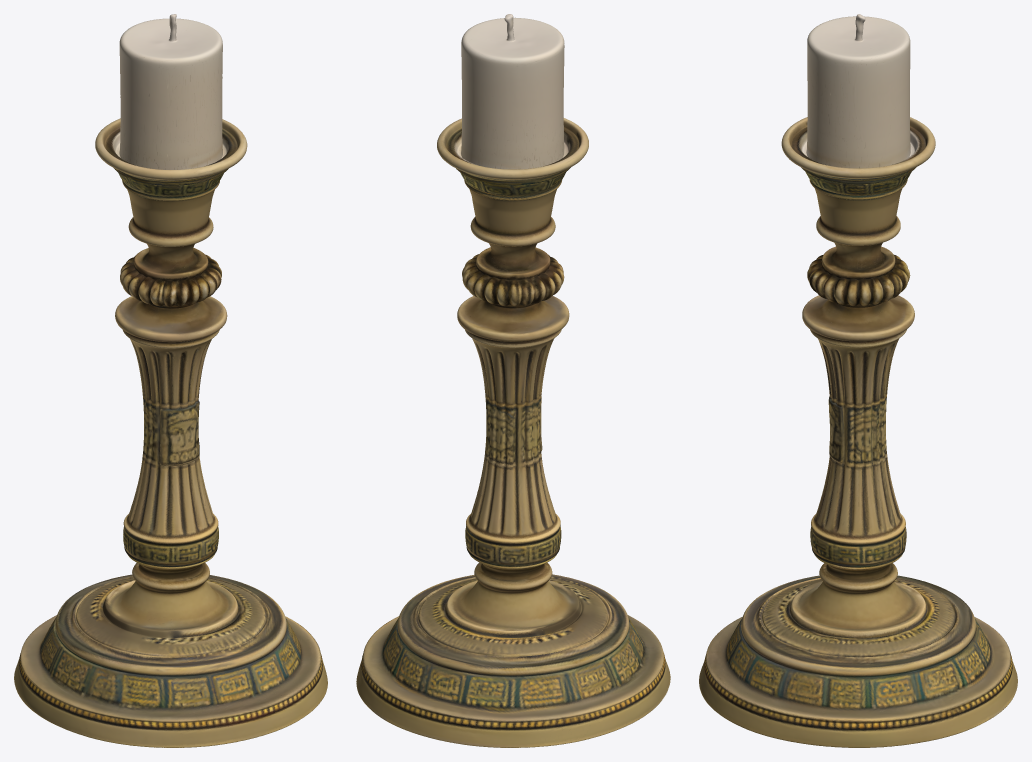
The picture shows the model from 3 angles, left to right: view 1: azimuth 30°, elevation 25°; view 2: azimuth 150°, elevation 25°; view 3: azimuth 270°, elevation 25°; orthographic projection.
Visible parts, largest first — view 1: node_0; view 2: node_0; view 3: node_0.
Boxes of the visible parts, x1,y1,x2,y2 form: node_0: (14,14,327,747); node_0: (356,14,670,747); node_0: (699,14,1017,747).
Bounding box in the file's own units: 0.4677 × 1.1 × 0.4766.
Materials: 1 (1 with a texture image).
